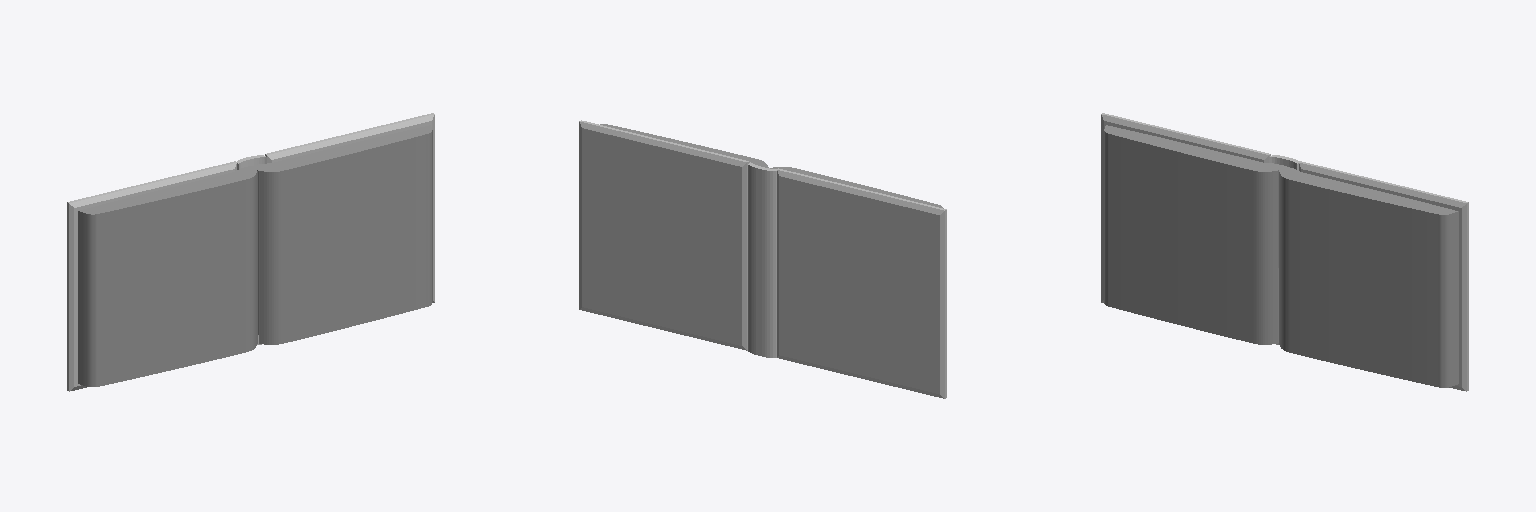
The model's file is book.obj.
3 renders of one model, left to right at view 1: azimuth 30°, elevation 25°; view 2: azimuth 150°, elevation 25°; view 3: azimuth 330°, elevation 25°, orthographic.
Parts seen in each view (by area): view 1: pages_Mesh.001, cover_Cube.001; view 2: cover_Cube.001, spine_Mesh, pages_Mesh.001; view 3: pages_Mesh.001, cover_Cube.001.
Part boxes in pixels (x1,y1,x2,y2): pages_Mesh.001: (78, 125, 432, 386); cover_Cube.001: (67, 113, 434, 391); cover_Cube.001: (579, 120, 946, 398); spine_Mesh: (748, 162, 776, 357); pages_Mesh.001: (600, 124, 943, 208); pages_Mesh.001: (1104, 125, 1458, 387); cover_Cube.001: (1101, 113, 1468, 391).
Size of the model in its own units: 4.27 by 2.1 by 0.3272.